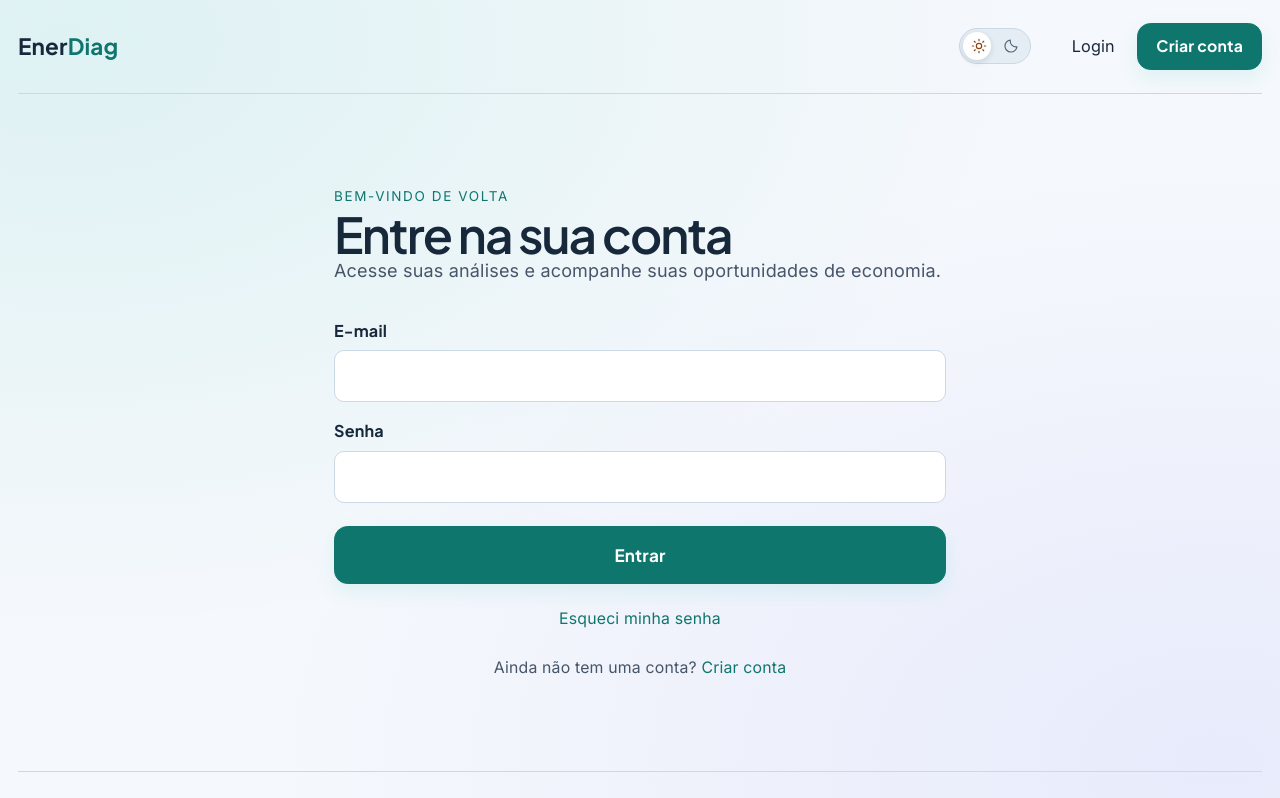
Scenario: login and password recovery › logs in and keeps the token in memory
Type "ana@example.com" into the field labelled "E-mail".
click(640, 376); type("ana@example.com")  # box [334, 350, 946, 402]
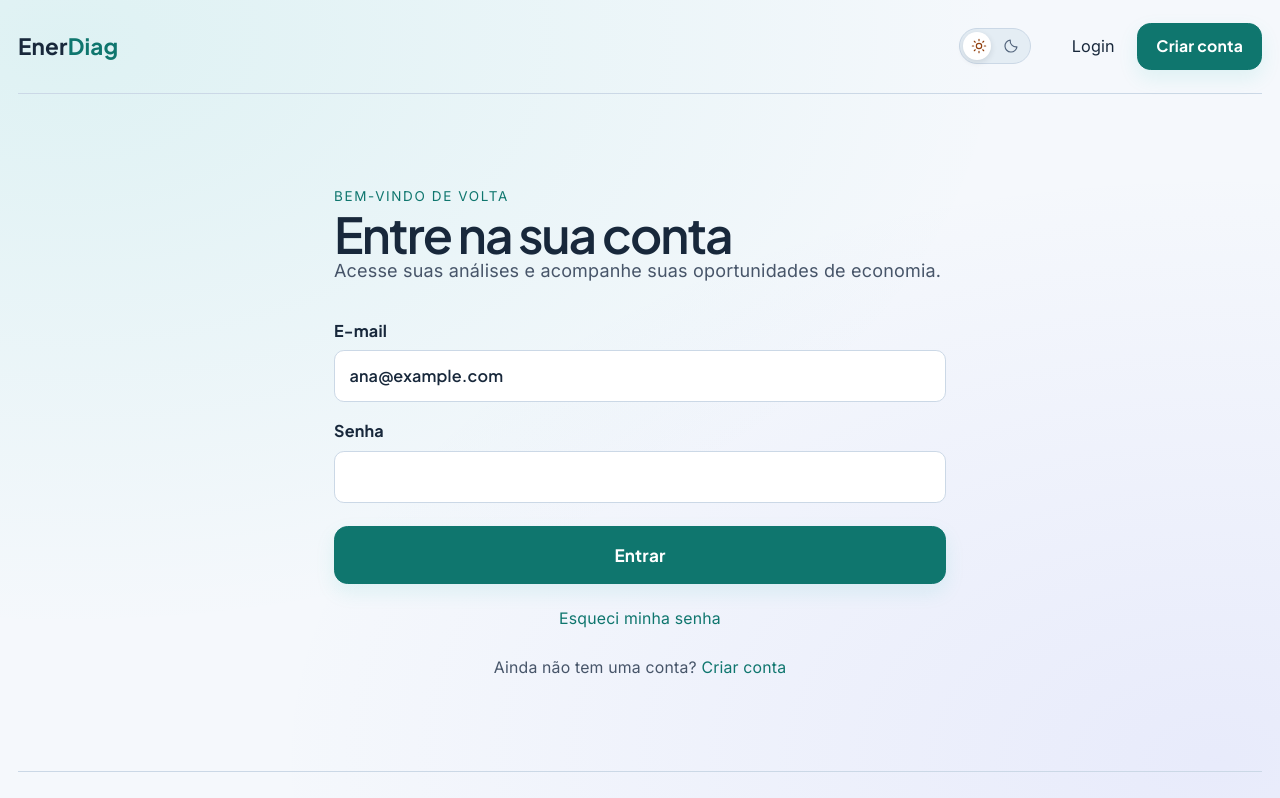
Type "SenhaValida123" into the password field labelled "Senha".
click(640, 477); type("SenhaValida123")  # box [334, 451, 946, 503]
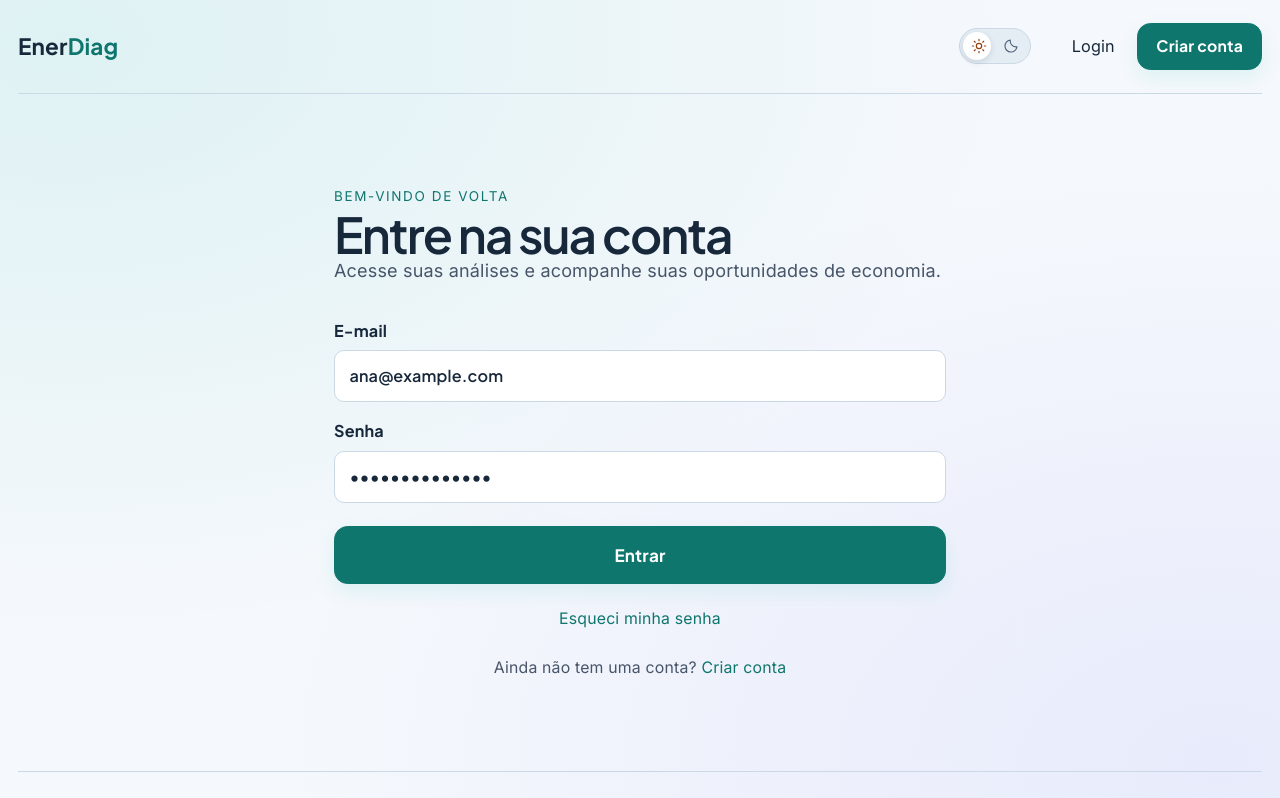
Click the button "Entrar".
click(640, 555)  # box [334, 526, 946, 584]
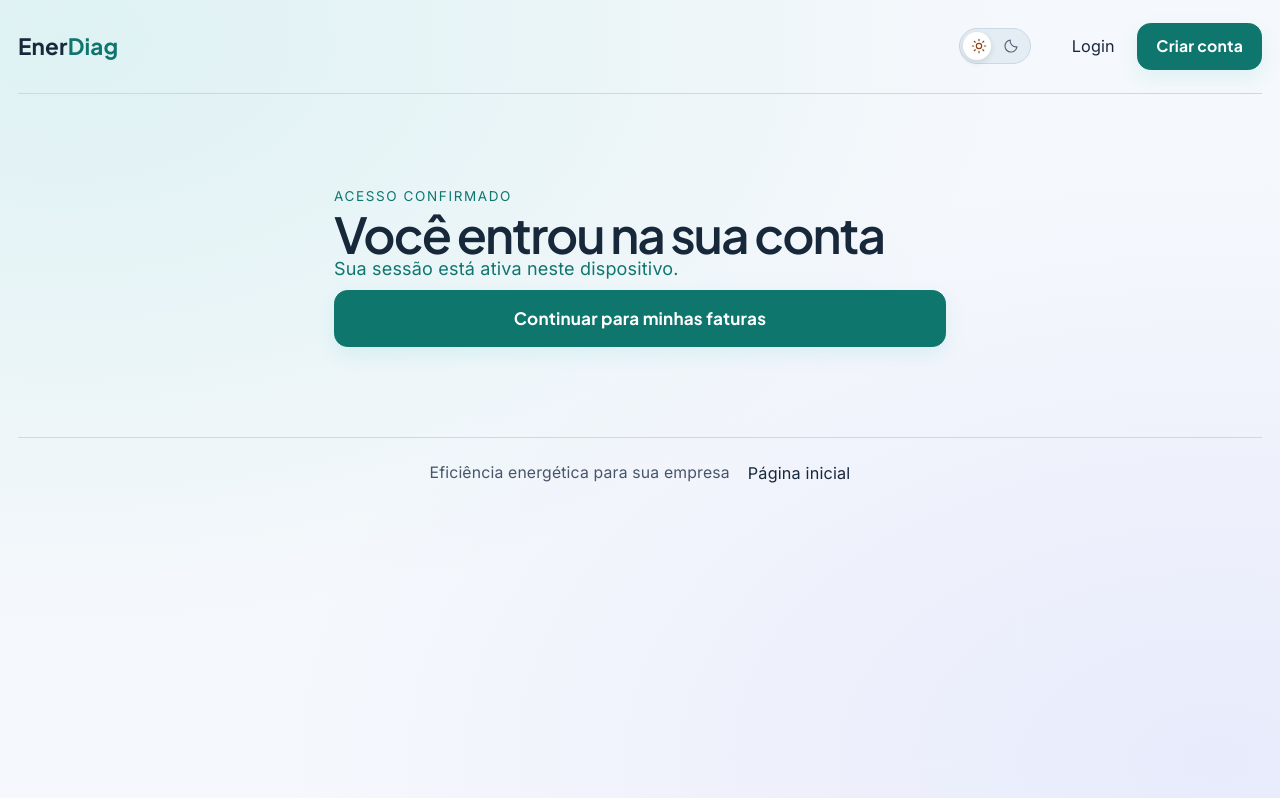
Expected: the heading "Você entrou na sua conta" is shown, [334, 221, 946, 247]
